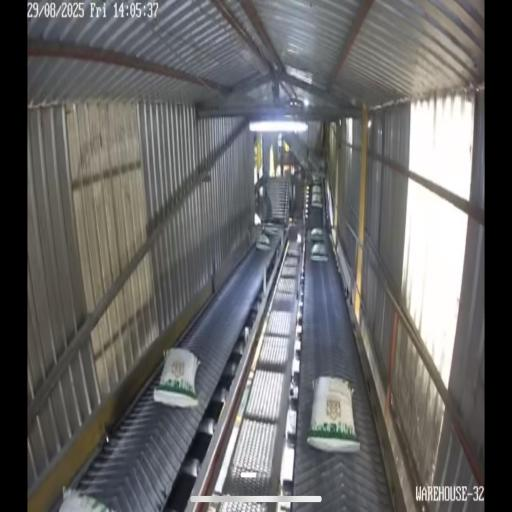c-belt-sack-count: (308, 376, 359, 451), (154, 348, 200, 407), (311, 243, 328, 261)
